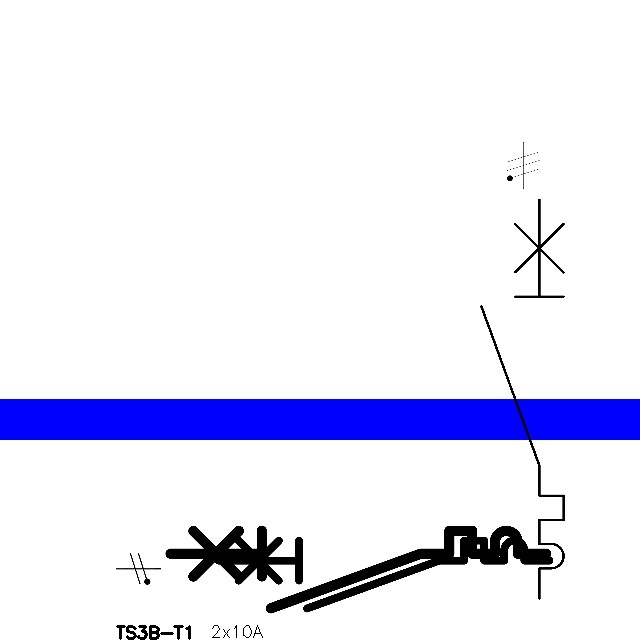interruptor_termomagnetico: (471, 189, 574, 608), (160, 521, 555, 617), (210, 532, 558, 617)
